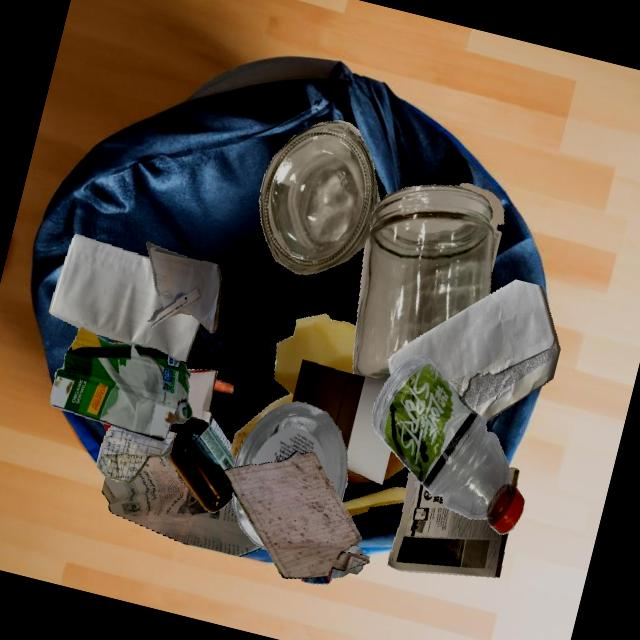biowaste: (230, 335, 310, 461), (293, 313, 356, 374), (213, 379, 233, 393)
cardboard: (50, 327, 192, 441), (292, 359, 390, 484)
glass: (352, 184, 494, 381), (258, 120, 379, 275), (168, 416, 235, 513)
paper: (387, 279, 560, 422), (48, 233, 200, 361), (222, 451, 369, 578), (101, 453, 262, 556), (387, 472, 507, 577), (146, 241, 221, 333), (96, 425, 176, 482), (458, 183, 503, 271), (187, 369, 217, 425)
plastic: (372, 355, 524, 534), (233, 401, 347, 501), (300, 564, 363, 584), (342, 544, 363, 555)
